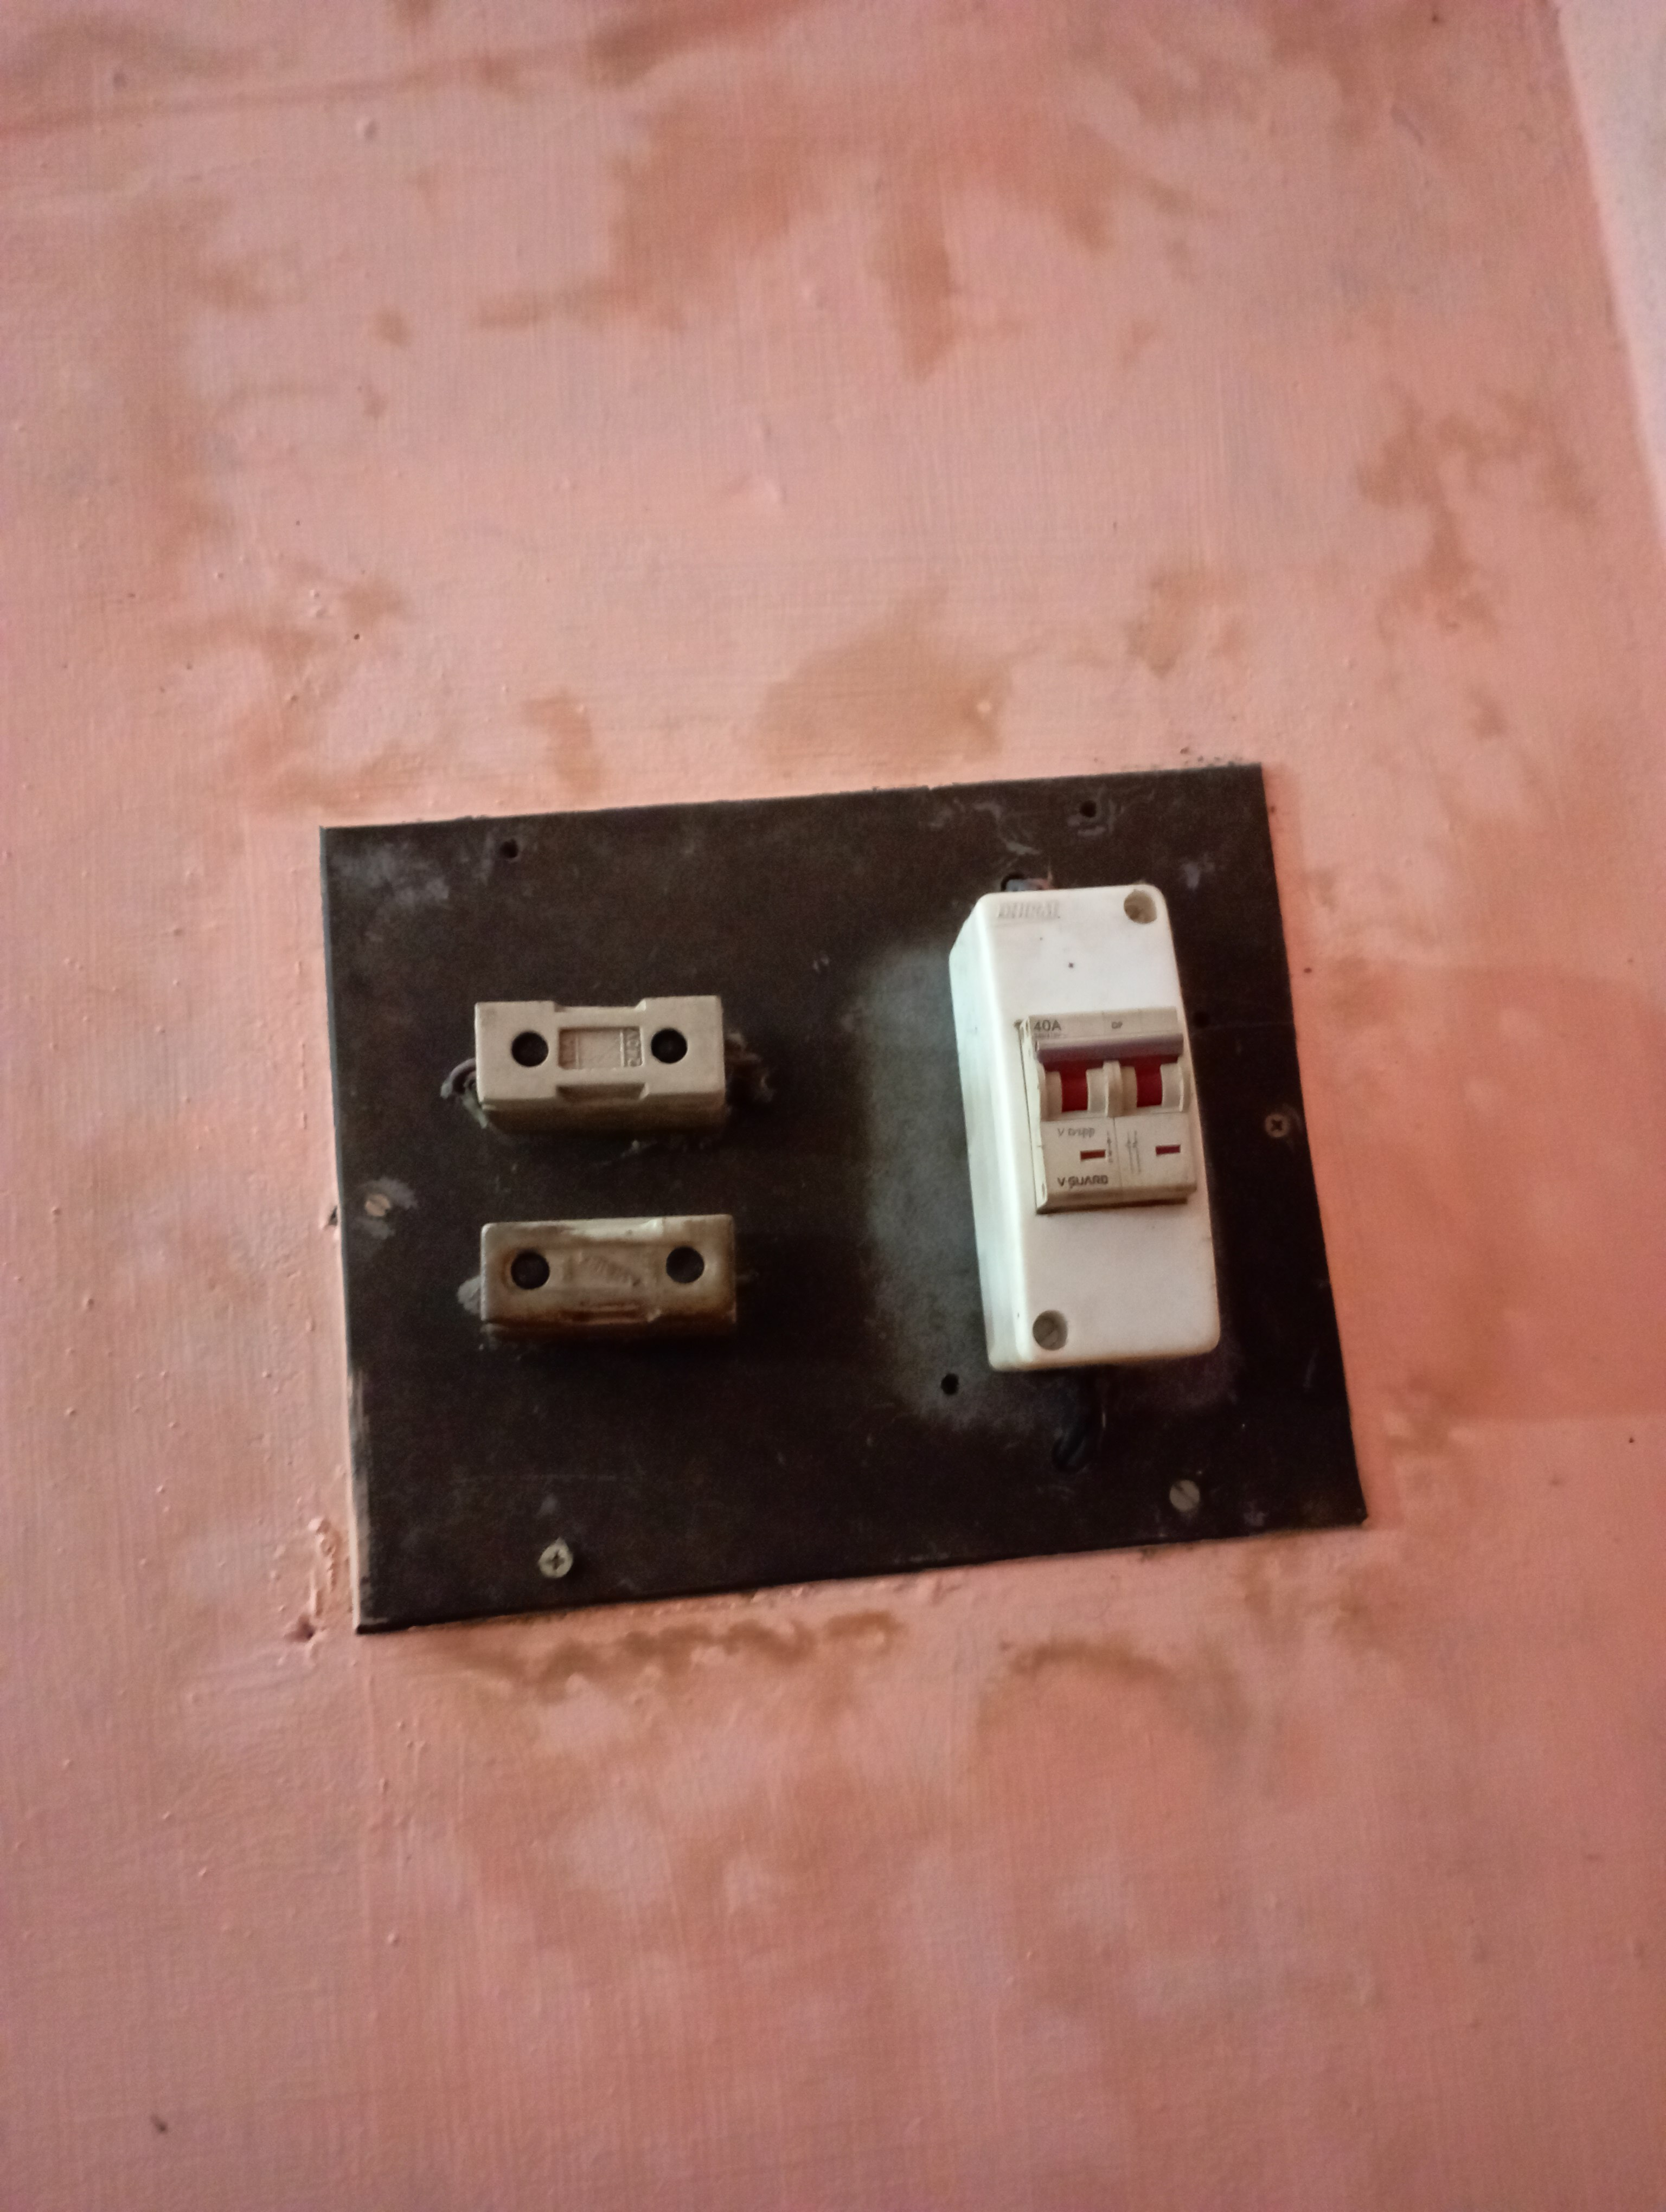ciruit_breaker: (926, 890, 1239, 1380)
fuse: (453, 965, 744, 1133), (462, 1189, 749, 1353)
